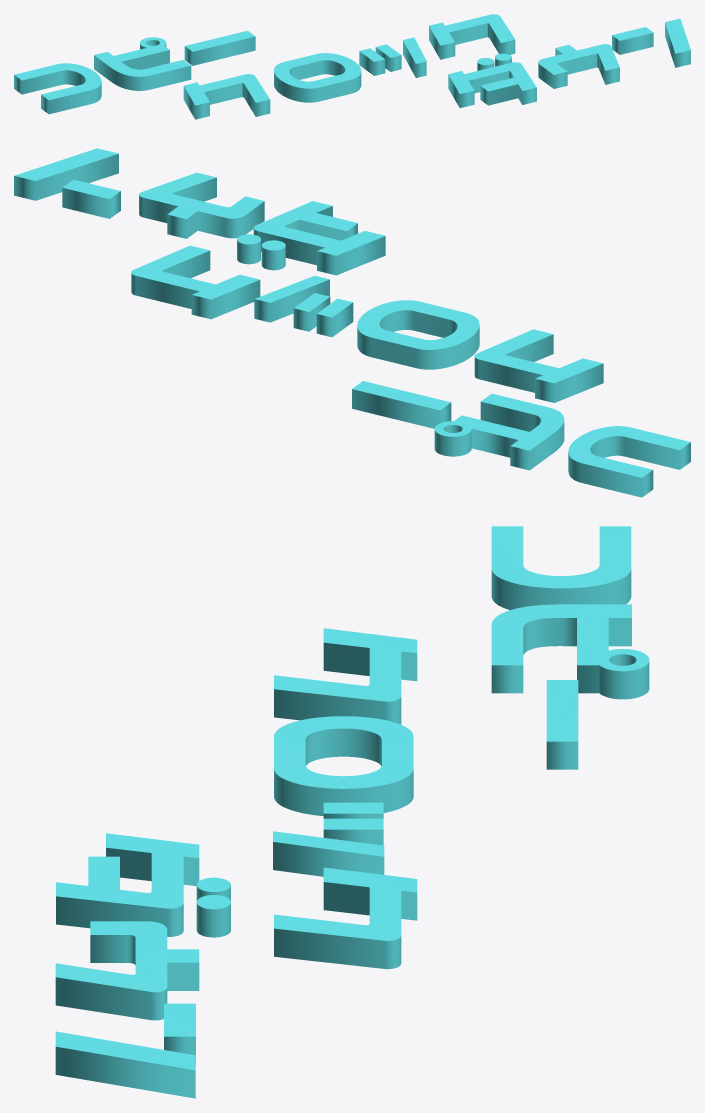
Rendered from font.gltf.
The picture shows the model from 3 angles, top to bottom: view 1: azimuth 30°, elevation 25°; view 2: azimuth 150°, elevation 25°; view 3: azimuth 270°, elevation 25°; orthographic projection. The views are drawn at different scales.
Parts seen in each view (by area): view 1: テキスト; view 2: テキスト; view 3: テキスト.
Boxes of the visible parts, x1,y1,x2,y2 form: テキスト: (14,14,690,119); テキスト: (14,148,690,497); テキスト: (55,526,649,1098).
Size of the model in its own units: 4.14 by 0.1 by 1.91.
1 material, 1 textured.
